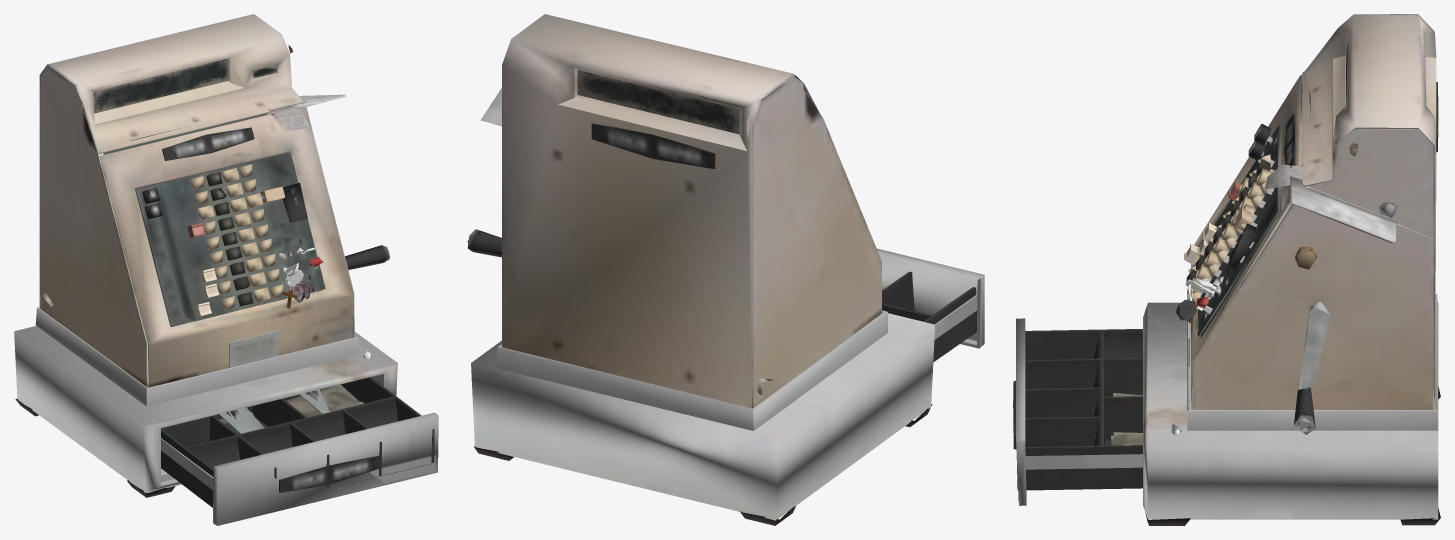
Rendered from CashRegister_01.glb.
The picture shows the model from 3 angles, left to right: view 1: azimuth 30°, elevation 25°; view 2: azimuth 150°, elevation 25°; view 3: azimuth 270°, elevation 25°; orthographic projection. The views are drawn at different scales.
Visible parts, largest first — view 1: CashRegister_01_body, CashRegister_01_body_lo; view 2: CashRegister_01_body, CashRegister_01_body_lo; view 3: CashRegister_01_body, CashRegister_01_body_lo.
Boxes of the visible parts, x1=… form: CashRegister_01_body: x1=14, y1=14, x2=438, y2=525; CashRegister_01_body_lo: x1=39, y1=58, x2=397, y2=468; CashRegister_01_body: x1=467, y1=14, x2=984, y2=525; CashRegister_01_body_lo: x1=752, y1=77, x2=979, y2=407; CashRegister_01_body: x1=1013, y1=14, x2=1440, y2=525; CashRegister_01_body_lo: x1=1093, y1=28, x2=1434, y2=445.
Size of the model in its own units: 0.5941 by 0.6197 by 0.6207.
2 materials, 2 textured.
